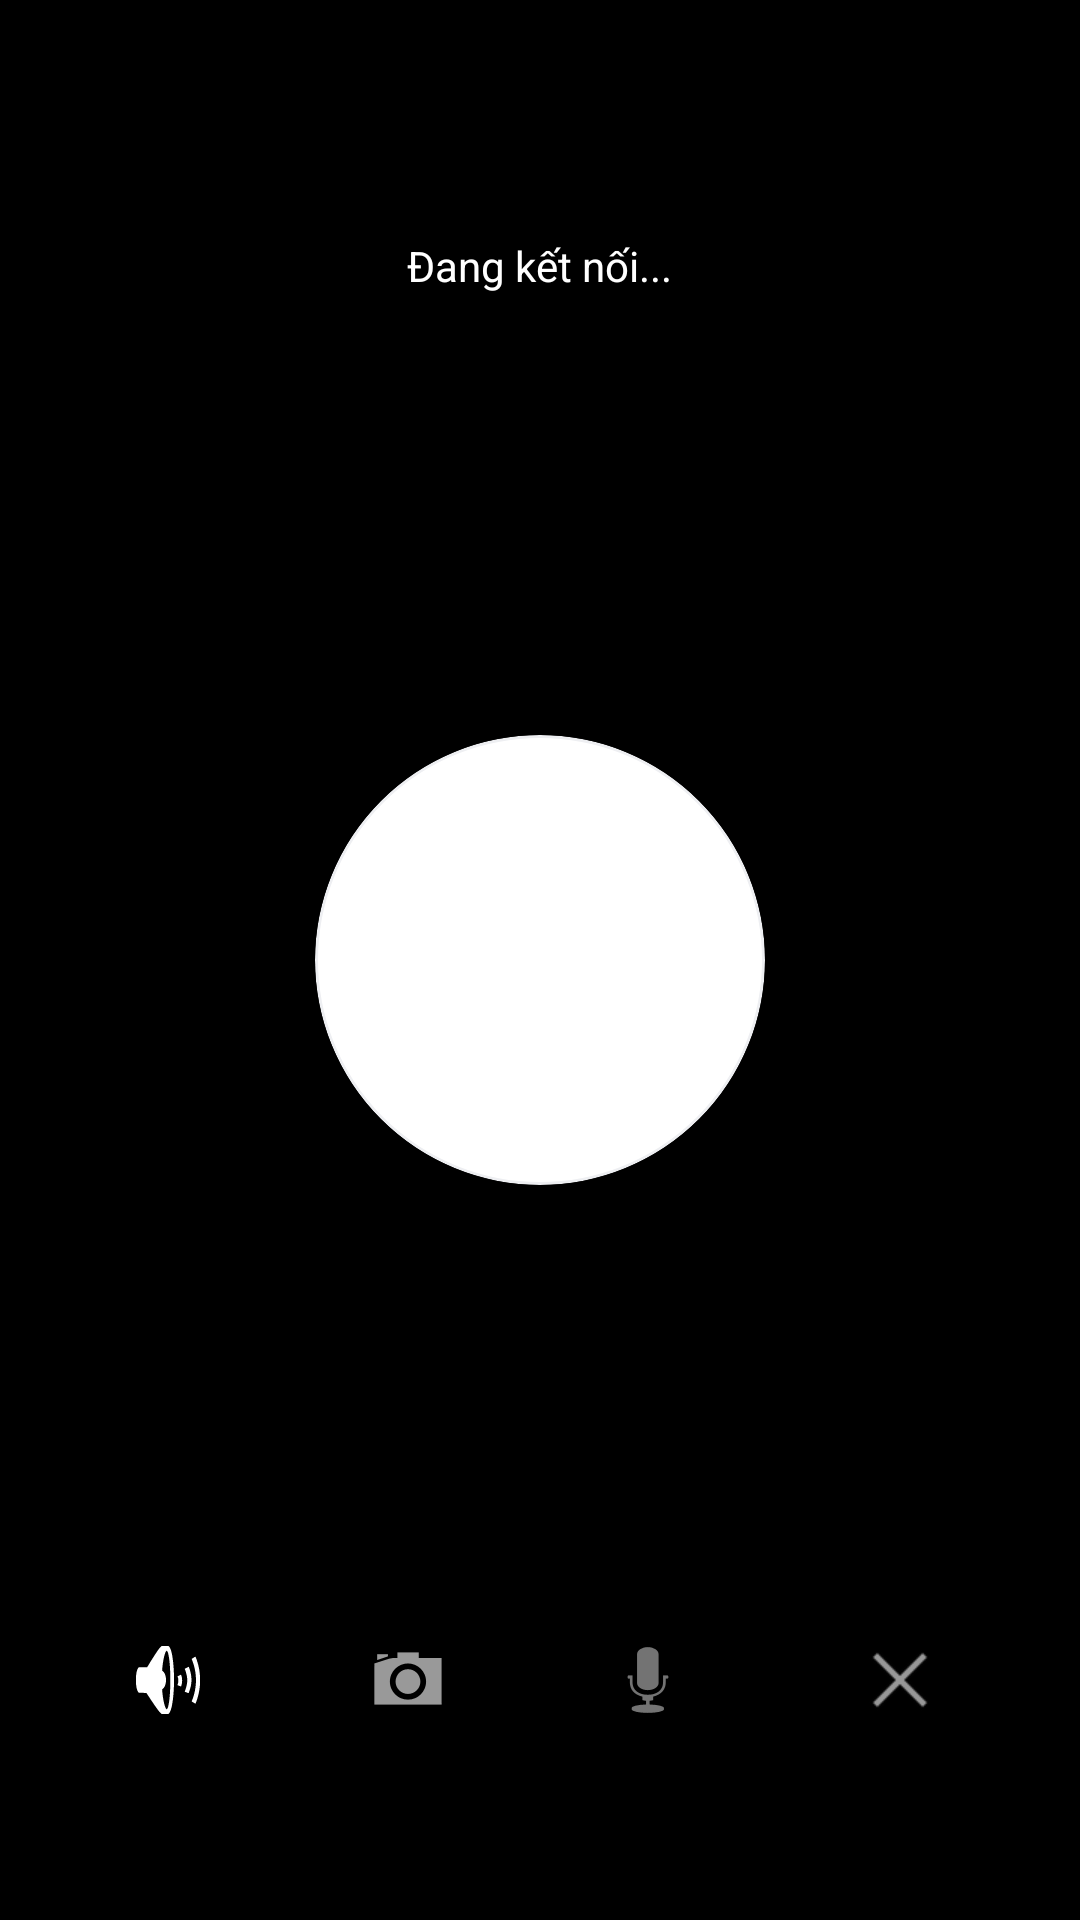

Where icons sit on this 1080px×1920px app screen, as (x1,y1,x2,y2):
Camera: (374,1652,442,1705)
Kết thúc: (873,1653,927,1707)
Loa ngoài: (136,1646,200,1714)
Mic: (627,1647,669,1713)
